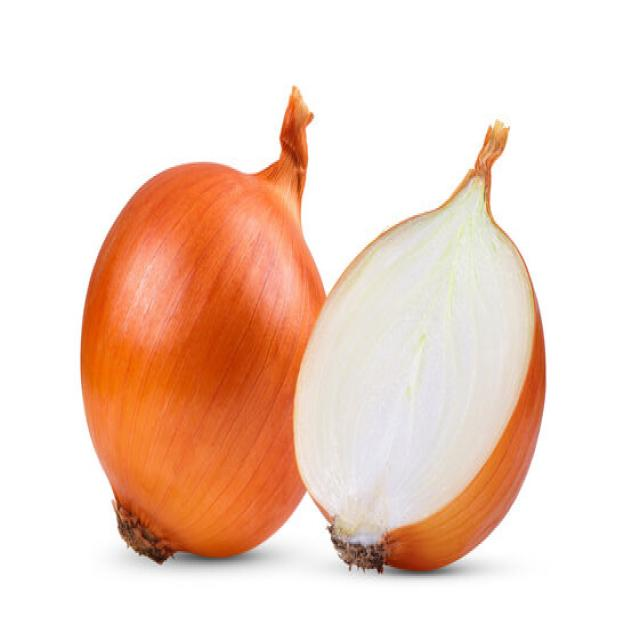Onion: (79, 84, 326, 564), (291, 118, 546, 572)
